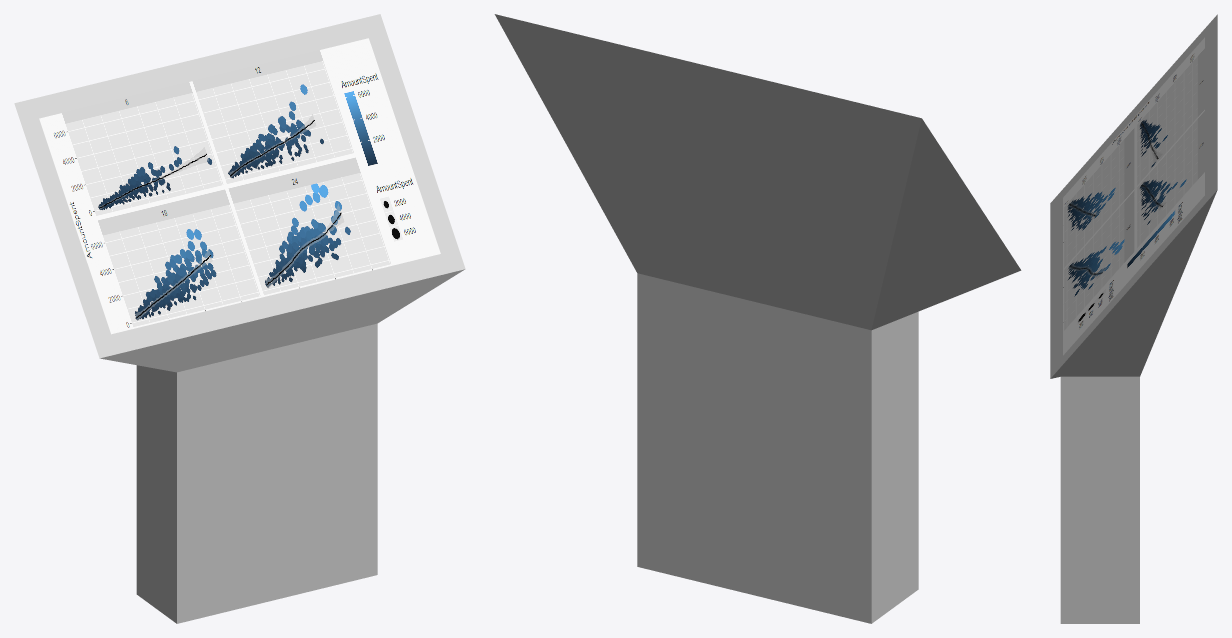
Rendered from display.fbx.
The picture shows the model from 3 angles, left to right: view 1: azimuth 30°, elevation 25°; view 2: azimuth 150°, elevation 25°; view 3: azimuth 270°, elevation 25°; orthographic projection. The views are drawn at different scales.
Parts seen in each view (by area): view 1: Display; view 2: Display; view 3: Display.
Boxes of the visible parts, bbox=[...] form: Display: bbox=[14, 14, 465, 623]; Display: bbox=[494, 14, 1021, 623]; Display: bbox=[1050, 14, 1217, 623].
Bounding box in the file's own units: 99.11 × 125 × 39.97.
